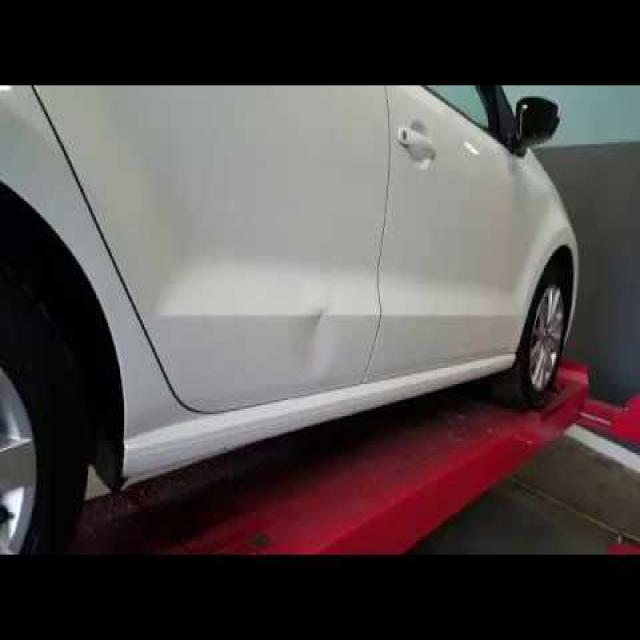dent: (293, 301, 337, 374)
